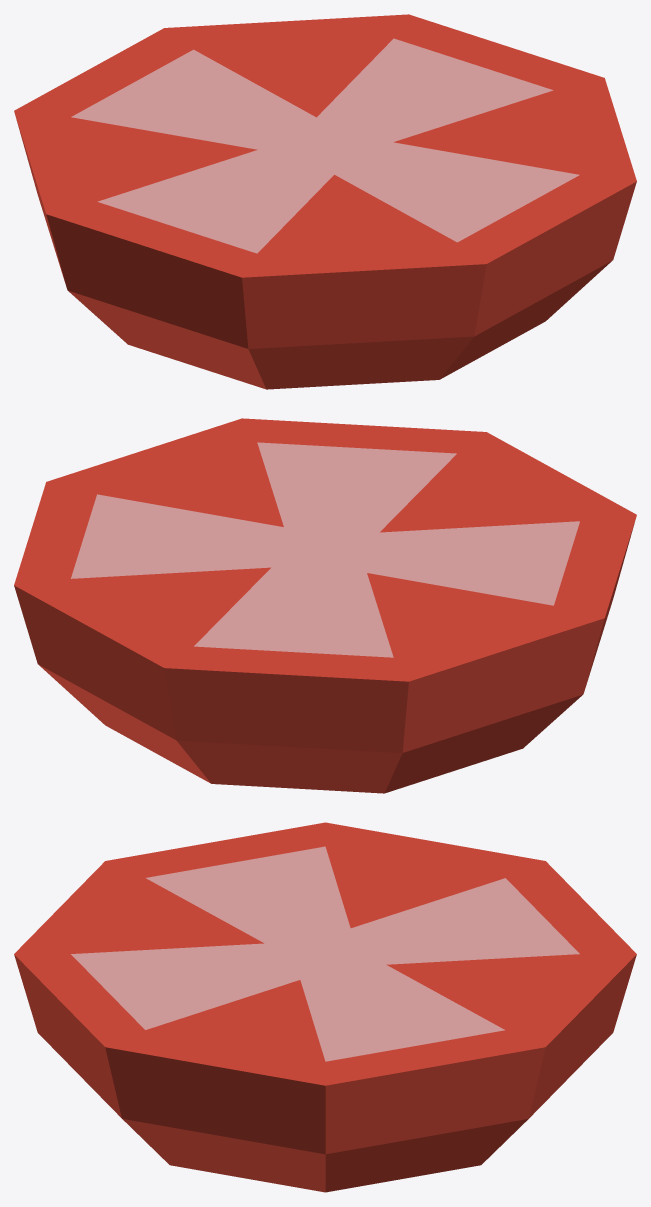
Rendered from TomatoChopped.fbx.
3 renders of one model, top to bottom at view 1: azimuth 30°, elevation 25°; view 2: azimuth 150°, elevation 25°; view 3: azimuth 270°, elevation 25°, orthographic. The views are drawn at different scales.
Visible parts, largest first — view 1: Plane; view 2: Plane; view 3: Plane.
Boxes of the visible parts, box(x1,y1,x2,y2) form: Plane: box(14, 14, 636, 389); Plane: box(14, 418, 636, 793); Plane: box(14, 822, 636, 1192).
Size of the model in its own units: 11.07 by 11.07 by 3.75.
